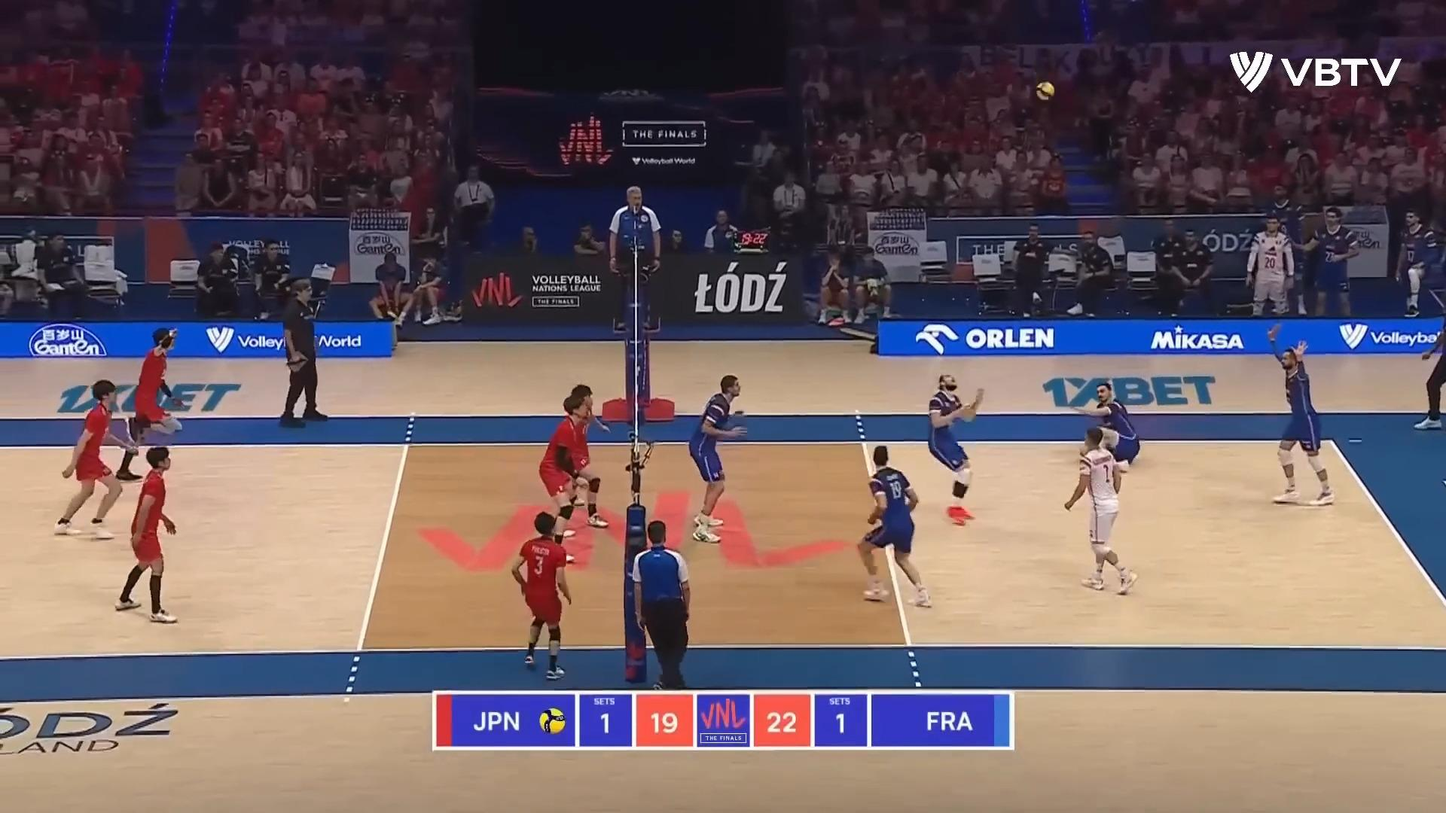ball: (1034, 80, 1057, 102)
